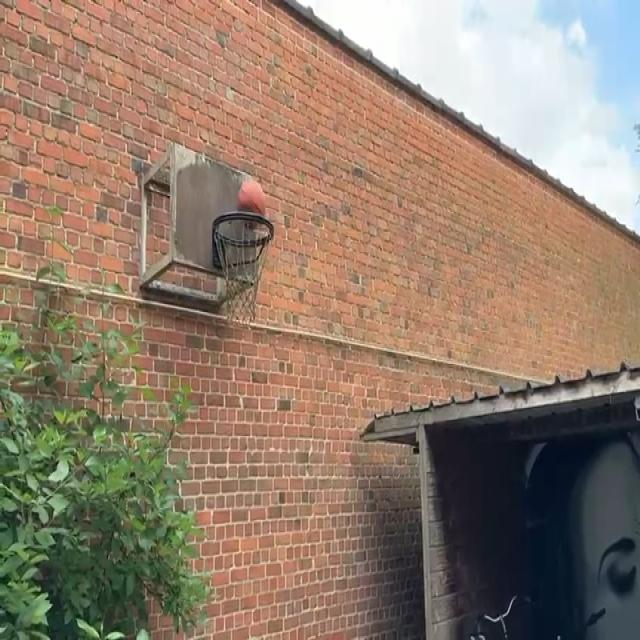rebound_hit: (238, 178, 265, 226)
